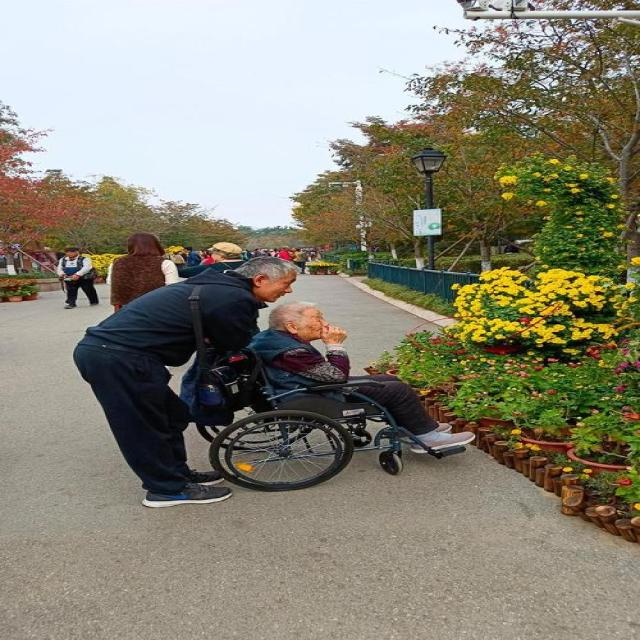wheelchairs: (179, 344, 472, 492)
